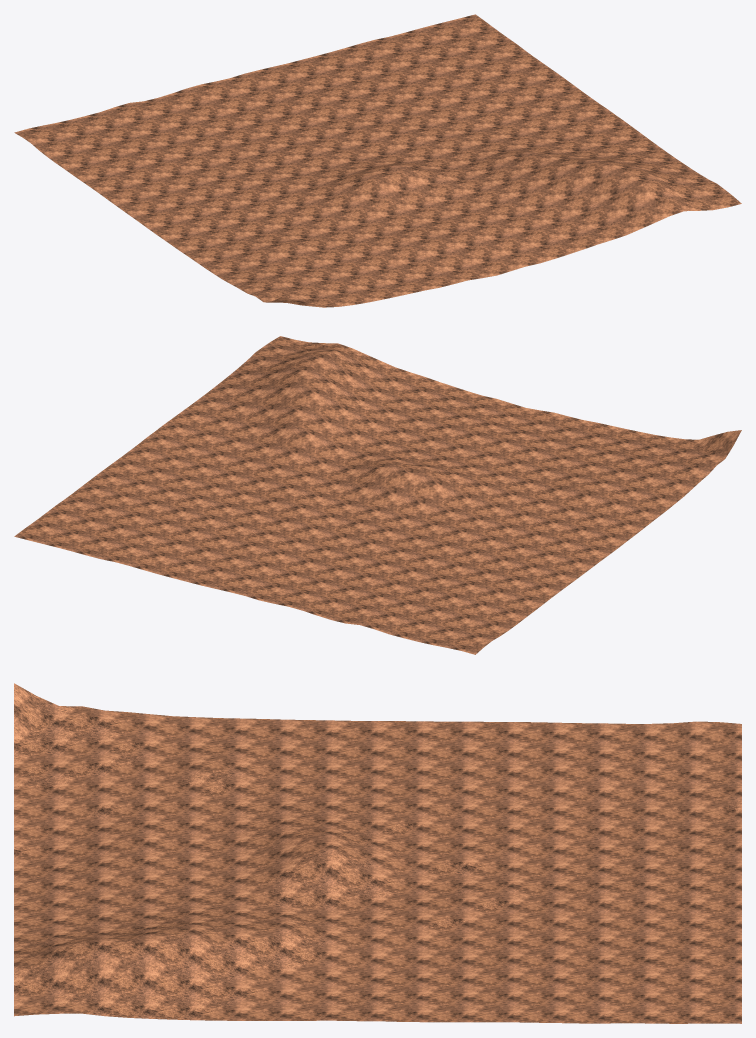
The model's file is terrain_09_06.dae.
The picture shows the model from 3 angles, top to bottom: view 1: azimuth 30°, elevation 25°; view 2: azimuth 150°, elevation 25°; view 3: azimuth 270°, elevation 25°; orthographic projection. The views are drawn at different scales.
Visible parts, largest first — view 1: terrain_09_06-node; view 2: terrain_09_06-node; view 3: terrain_09_06-node.
Part boxes in pixels (x1,y1,x2,y2): terrain_09_06-node: [14, 14, 741, 307]; terrain_09_06-node: [14, 336, 741, 654]; terrain_09_06-node: [14, 683, 741, 1023].
Size of the model in its own units: 128 by 128 by 8.28.
1 material, 1 textured.
